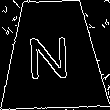N_N: (30, 28, 76, 81)
